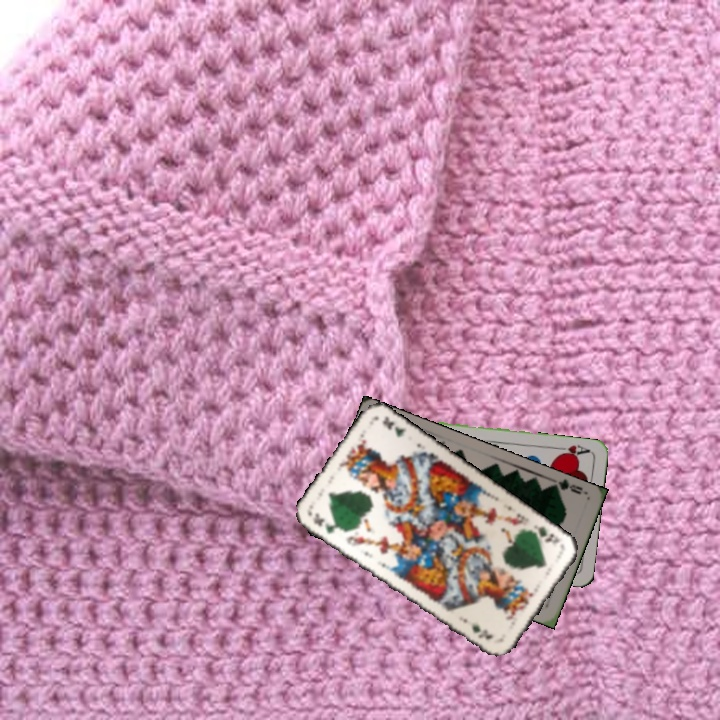G9: (548, 476, 585, 497)
GK: (309, 509, 345, 536), (527, 521, 562, 546)
HA: (552, 441, 592, 460)
